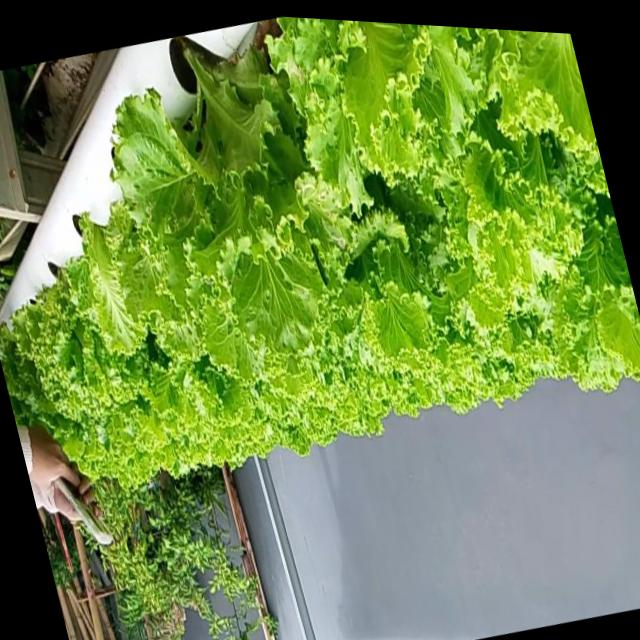Mature: (0, 17, 640, 488), (123, 53, 333, 347), (2, 227, 157, 445)
